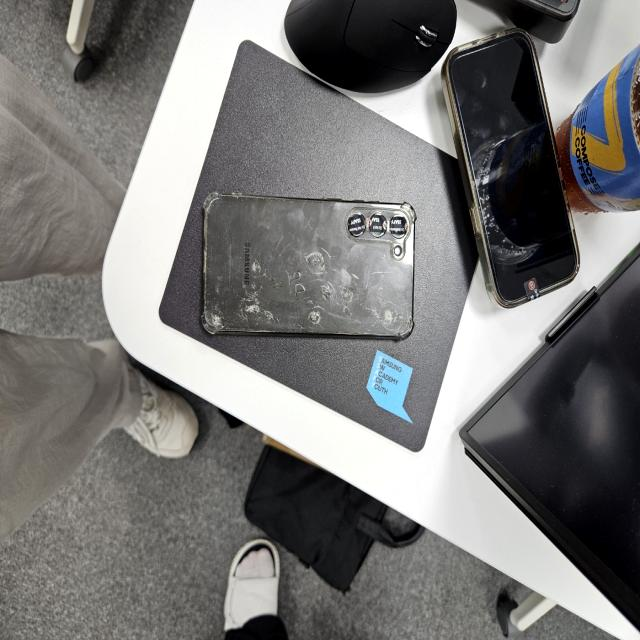phone: (444, 32, 581, 307), (200, 192, 416, 343)
sticker: (368, 212, 387, 236), (523, 273, 539, 301), (390, 215, 408, 238), (346, 216, 367, 235)
